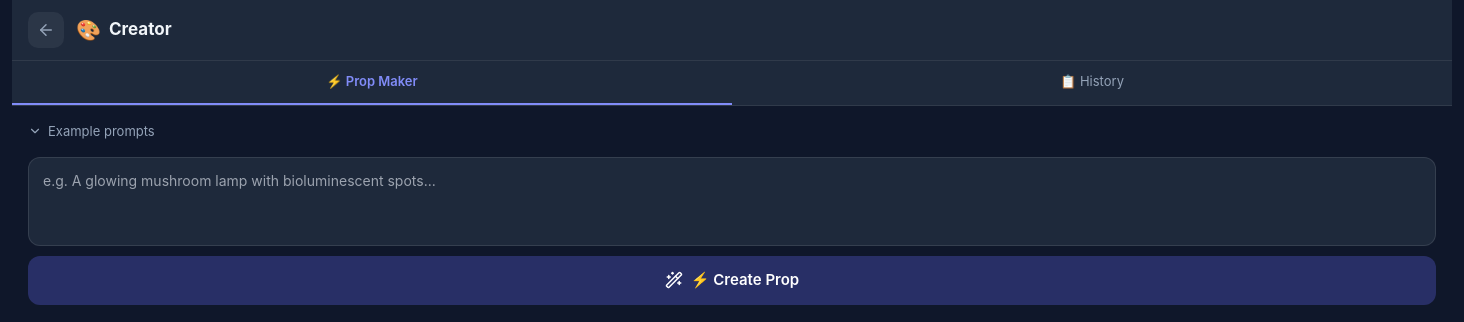
MobileCreatorView › enables generate button when text is entered
This screenshot has width=1464, height=322.
Type "A cool robot" into the text box with placeholder "e.g. A glowing mushroom lamp with bioluminescent spots..." at (732, 202), box [28,157,1436,246]
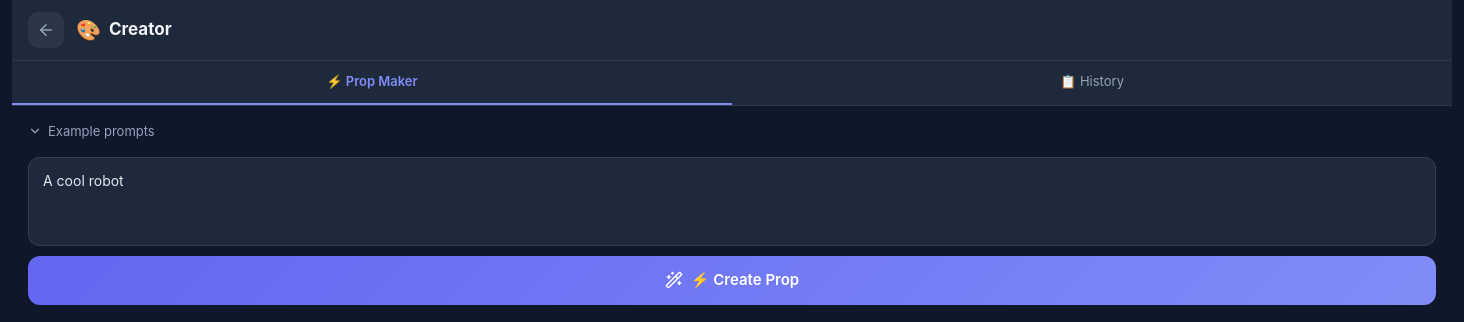
Result: the button "⚡ Create Prop" is enabled at [28,256,1436,304]
